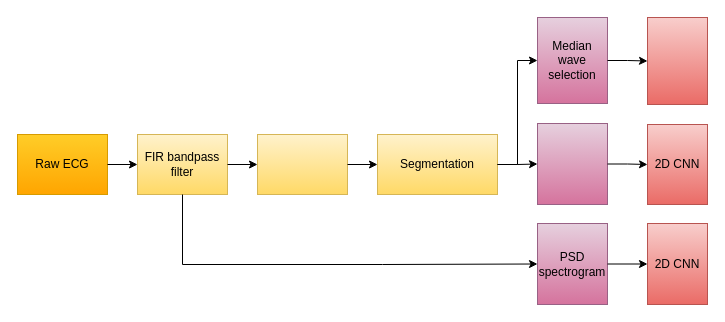
This 725x322 diagram has some shape labels left out. Here are the shapes that lost their labels. From the top down, the centre of each, then its label:
pixel 677 60: 1D CNN
pixel 302 164: QRS complex detection
pixel 572 163: Heartbeat template
